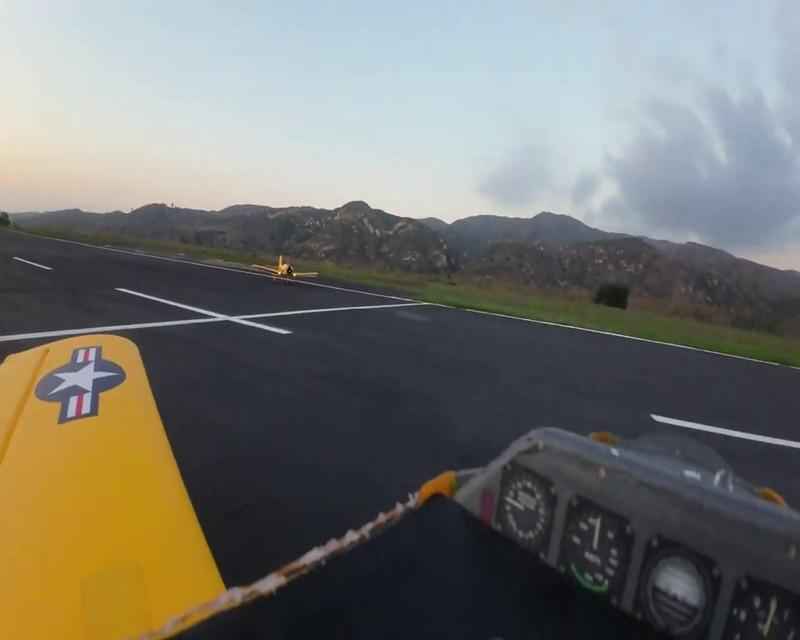UAV: (252, 256, 318, 285)
